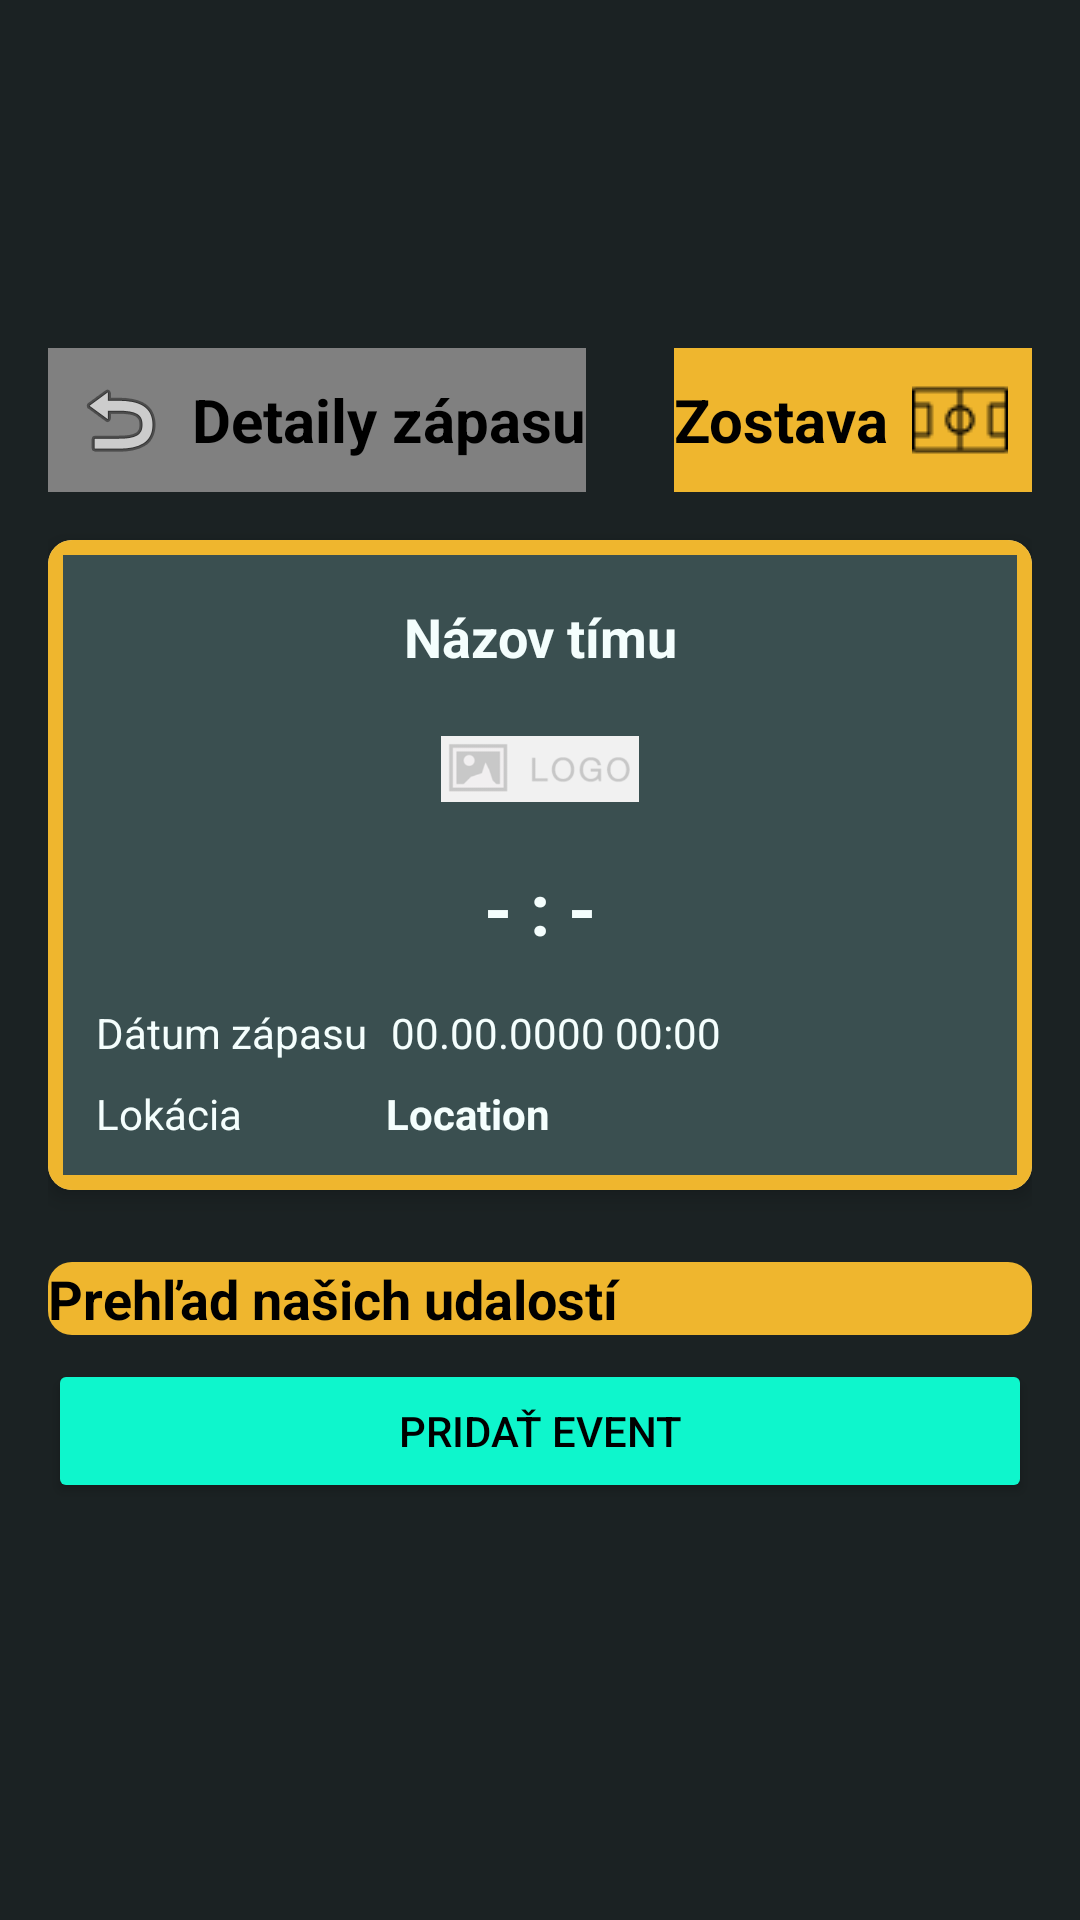

Icons on this 1080w x 1920h Android screen, each with the point to tap as (x=x, y=y):
football field: (x=960, y=420)
revert: (x=120, y=420)
